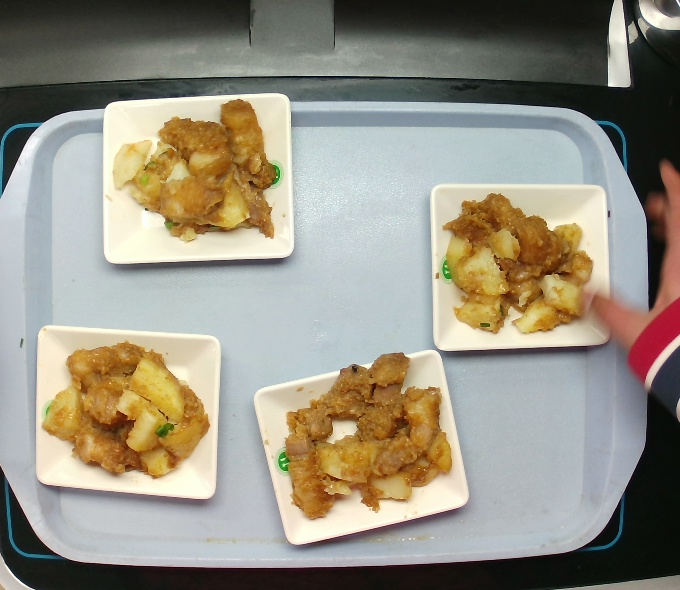wcq-FenZhenRou: (271, 343, 450, 526), (115, 90, 278, 245), (436, 186, 598, 338), (56, 343, 198, 480)
